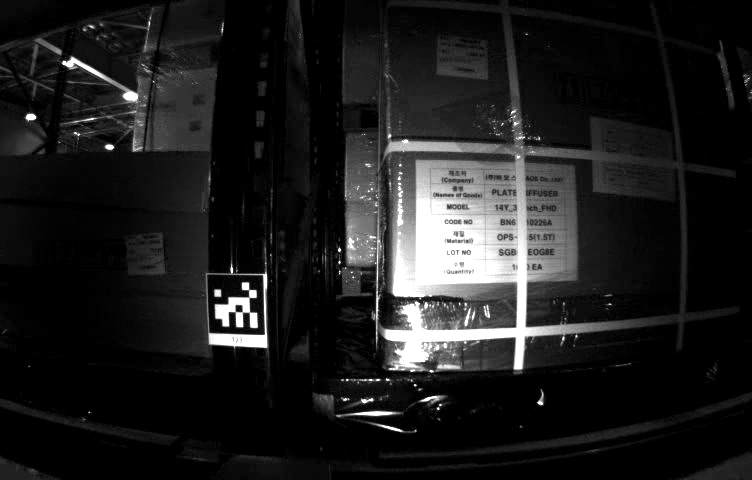True Barcode: (437, 35, 491, 80), (125, 231, 163, 276)
